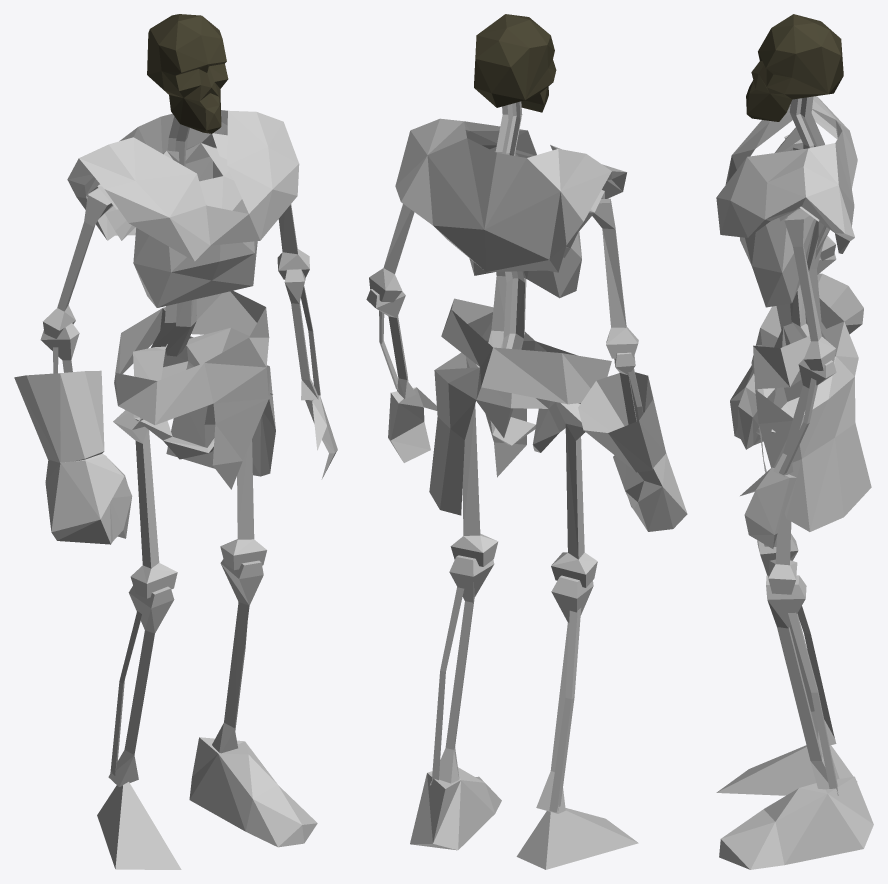
Rendered from SKE_BODY2.OBJ.
3 views of the same model, side by side, from view 1: azimuth 30°, elevation 25°; view 2: azimuth 150°, elevation 25°; view 3: azimuth 270°, elevation 25° (orthographic). The views are drawn at different scales.
Parts seen in each view (by area): view 1: SKE_BODY2; view 2: SKE_BODY2; view 3: SKE_BODY2.
Part boxes in pixels (x1=…): SKE_BODY2: x1=14, y1=14, x2=337, y2=869; SKE_BODY2: x1=366, y1=14, x2=687, y2=869; SKE_BODY2: x1=716, y1=14, x2=873, y2=869.
Size of the model in its own units: 0.6857 by 1.83 by 0.3277.
